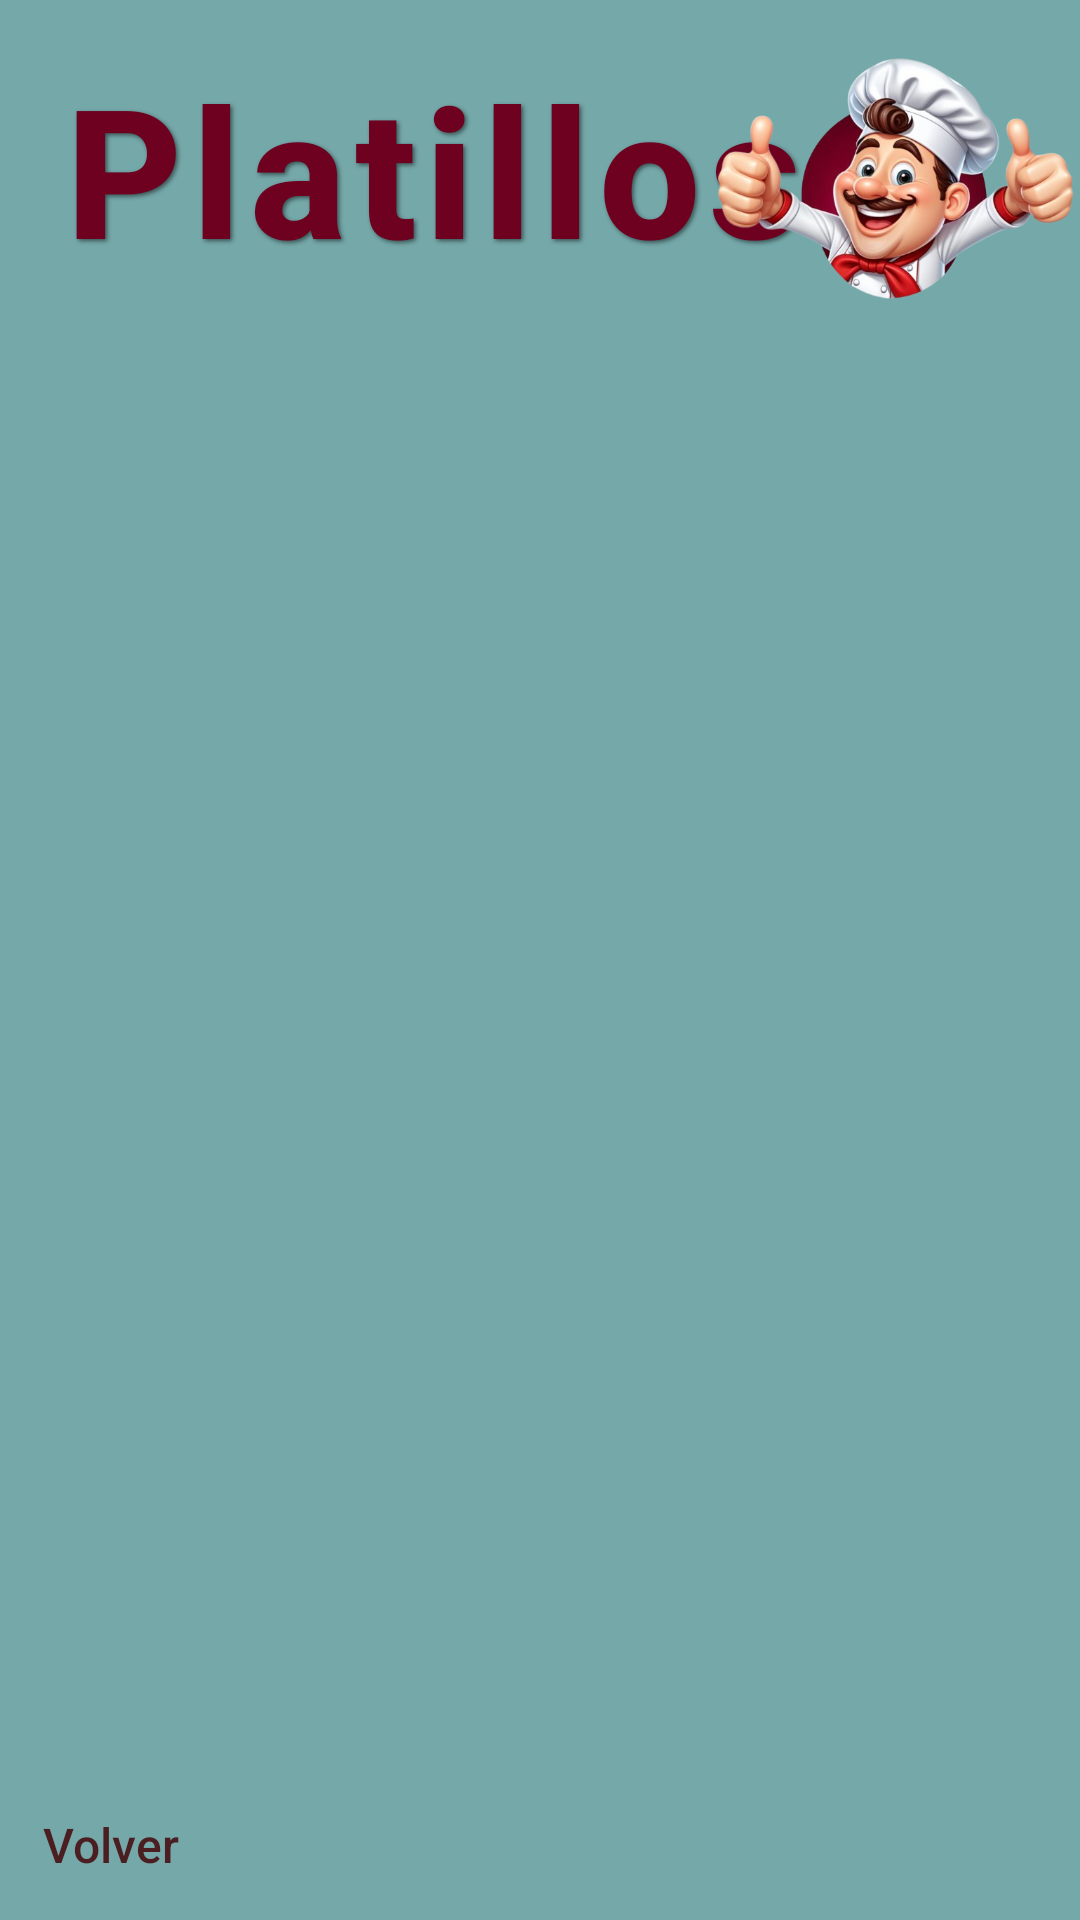

Icon click points for this 1080x1920 phone screenshot, format (x=x, y=y):
principal cheff: (x=893, y=178)
